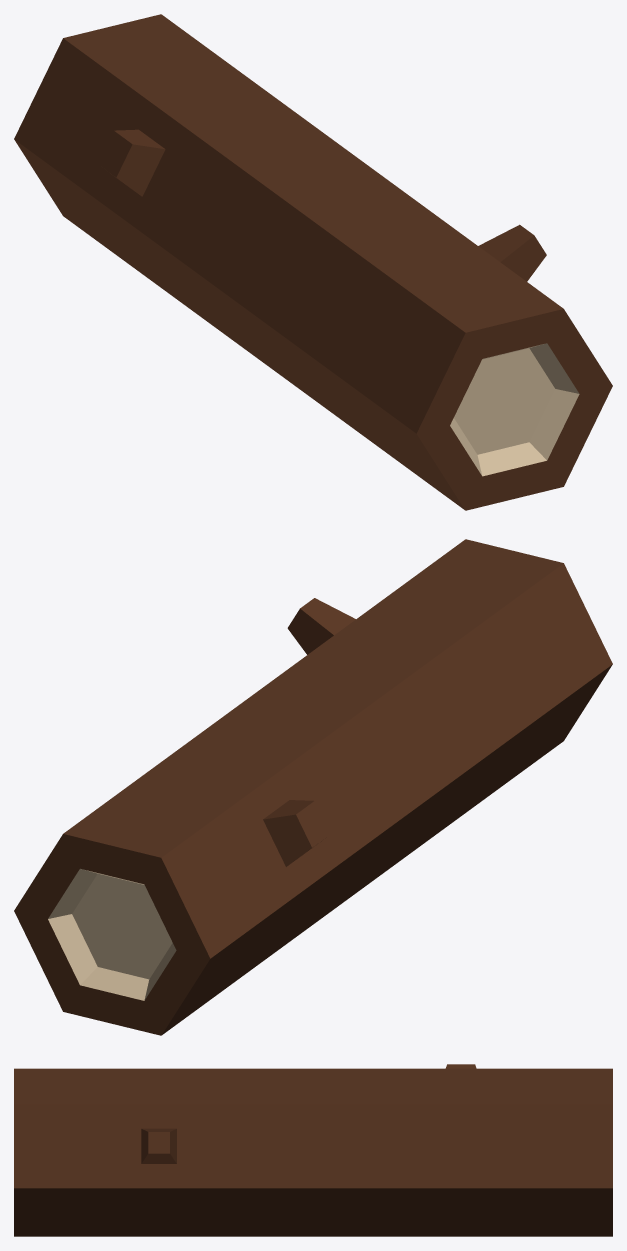
The model's file is log.glb.
The picture shows the model from 3 angles, top to bottom: view 1: azimuth 30°, elevation 25°; view 2: azimuth 150°, elevation 25°; view 3: azimuth 270°, elevation 25°; orthographic projection. The views are drawn at different scales.
Visible parts, largest first — view 1: log; view 2: log; view 3: log.
Boxes of the visible parts, <box> form: log: <box>14,14,612,510</box>; log: <box>14,539,612,1035</box>; log: <box>14,1064,612,1236</box>.
Bounding box in the file's own units: 0.234 × 0.1732 × 0.71.
